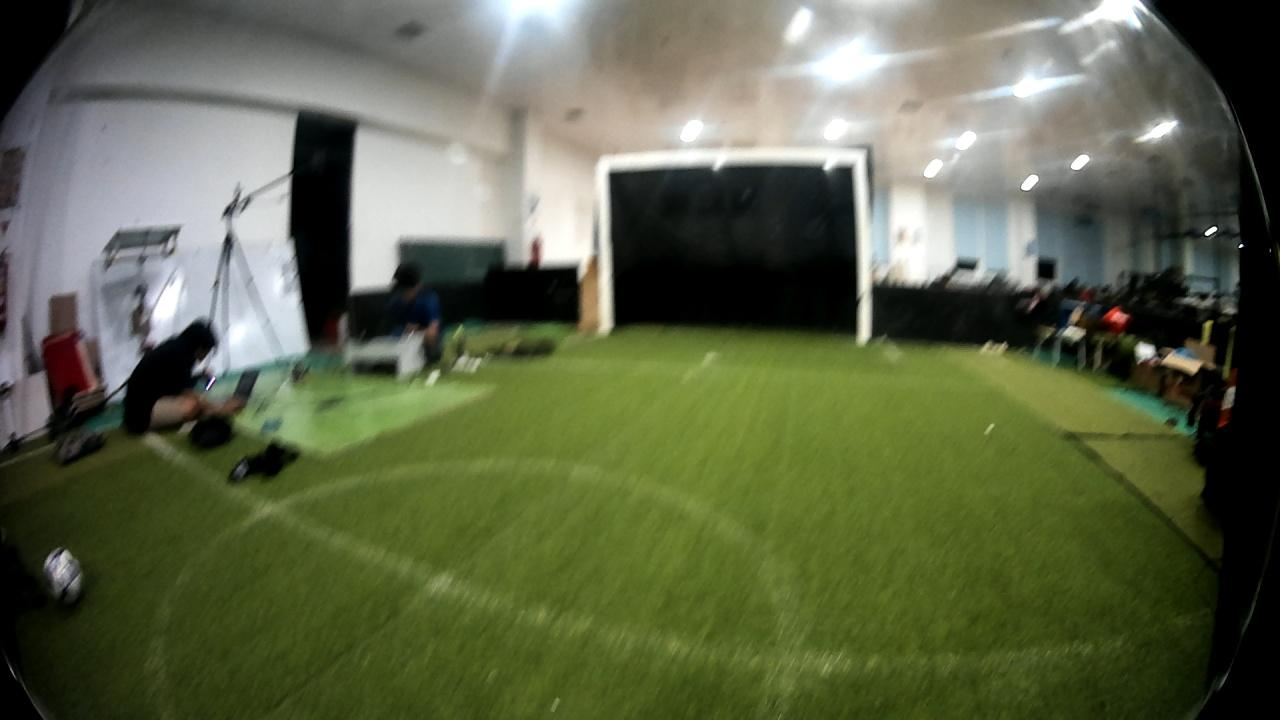ball: (43, 539, 88, 616)
